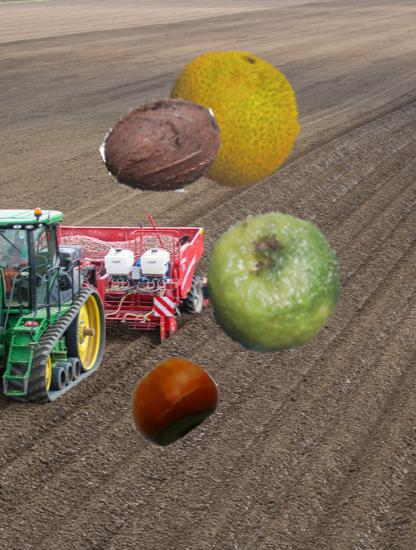Cantaloupe: (165, 51, 301, 187)
Cocos: (104, 89, 223, 208)
Limes: (199, 212, 342, 355)
Nut: (126, 354, 218, 446)
